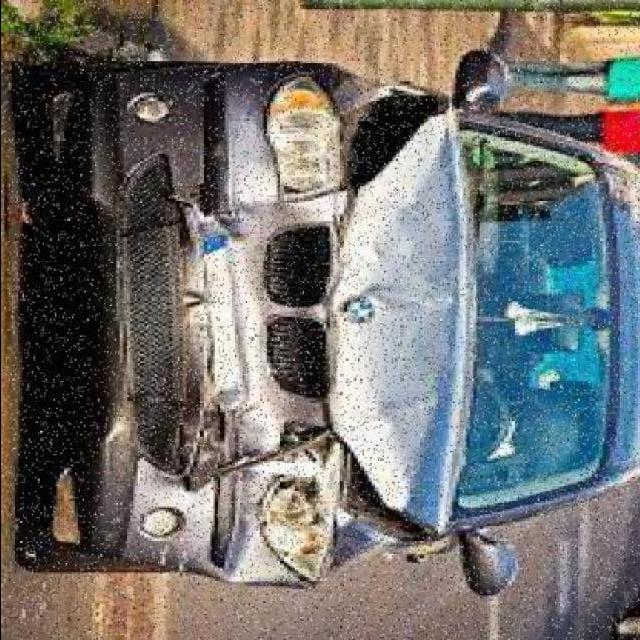Headlight-Damage: (242, 446, 346, 588)
bonnet-dent: (328, 96, 454, 545)
front-bumper-dent: (60, 191, 274, 503)
